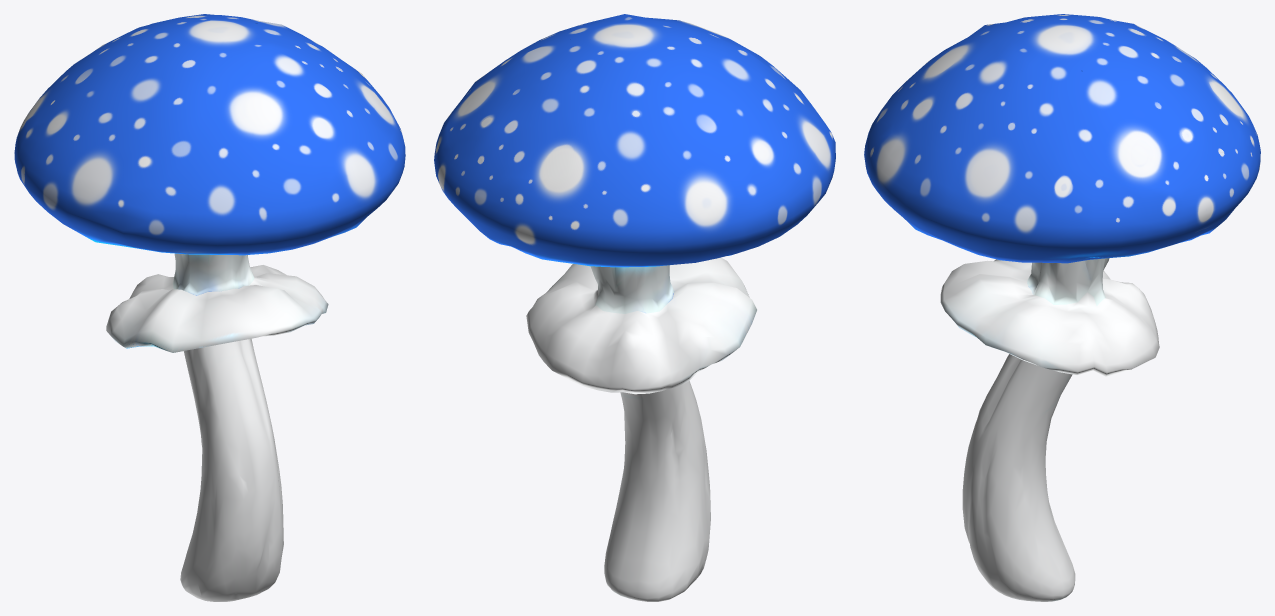
File: glowing_mushroom.glb
3 views of the same model, side by side, from view 1: azimuth 30°, elevation 25°; view 2: azimuth 150°, elevation 25°; view 3: azimuth 270°, elevation 25° (orthographic). The views are drawn at different scales.
Visible parts, largest first — view 1: pCube1; view 2: pCube1; view 3: pCube1.
Part boxes in pixels (left/top/right/bottom): pCube1: left=14, top=14, right=405, bottom=601; pCube1: left=434, top=14, right=835, bottom=601; pCube1: left=864, top=14, right=1260, bottom=601.
Bounding box in the file's own units: 2.04 × 3.17 × 2.04.
Materials: 1 (1 with a texture image).
